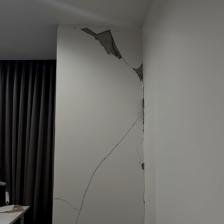High: (60, 24, 151, 224)
